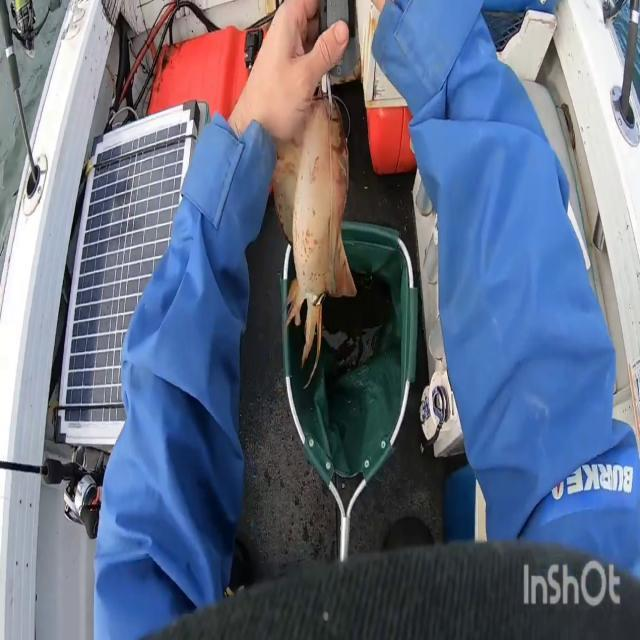squid: (272, 90, 357, 388)
